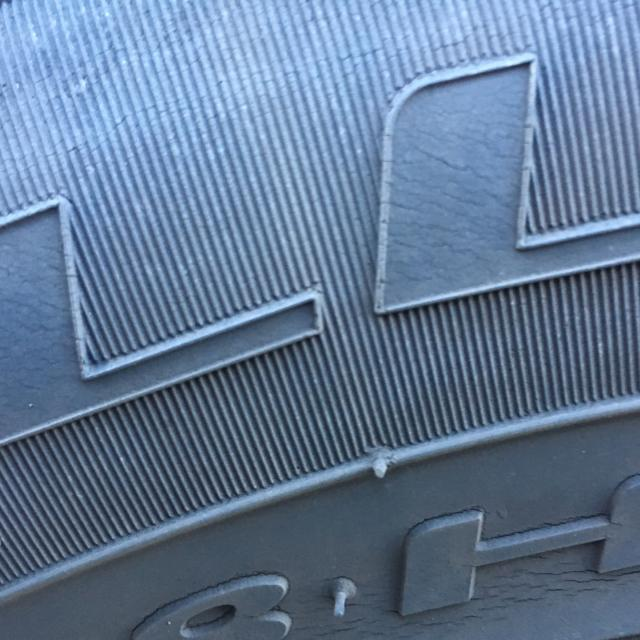Cracks: (0, 0, 640, 430), (203, 491, 640, 640)
